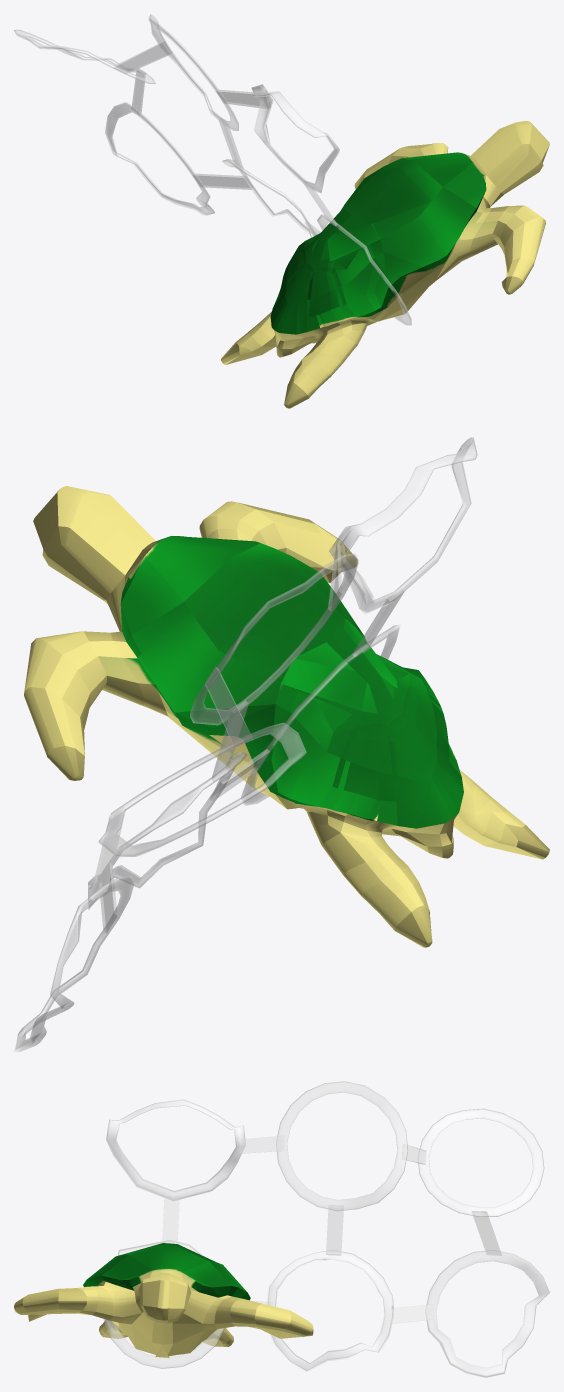
The model's file is StangledTurtleAnimated.fbx.
3 renders of one model, top to bottom at view 1: azimuth 30°, elevation 25°; view 2: azimuth 150°, elevation 25°; view 3: azimuth 270°, elevation 25°, orthographic. The views are drawn at different scales.
Parts seen in each view (by area): view 1: packrings:turtle, packrings:ring.001; view 2: packrings:turtle, packrings:ring.001; view 3: packrings:ring.001, packrings:turtle.
Boxes of the visible parts, x1,y1,x2,y2 form: packrings:turtle: (221, 121, 549, 408); packrings:ring.001: (14, 14, 411, 325); packrings:turtle: (24, 486, 549, 947); packrings:ring.001: (14, 437, 477, 1052); packrings:ring.001: (103, 1081, 549, 1377); packrings:turtle: (14, 1243, 313, 1357).
Size of the model in its own units: 18.55 by 15.14 by 28.11.
